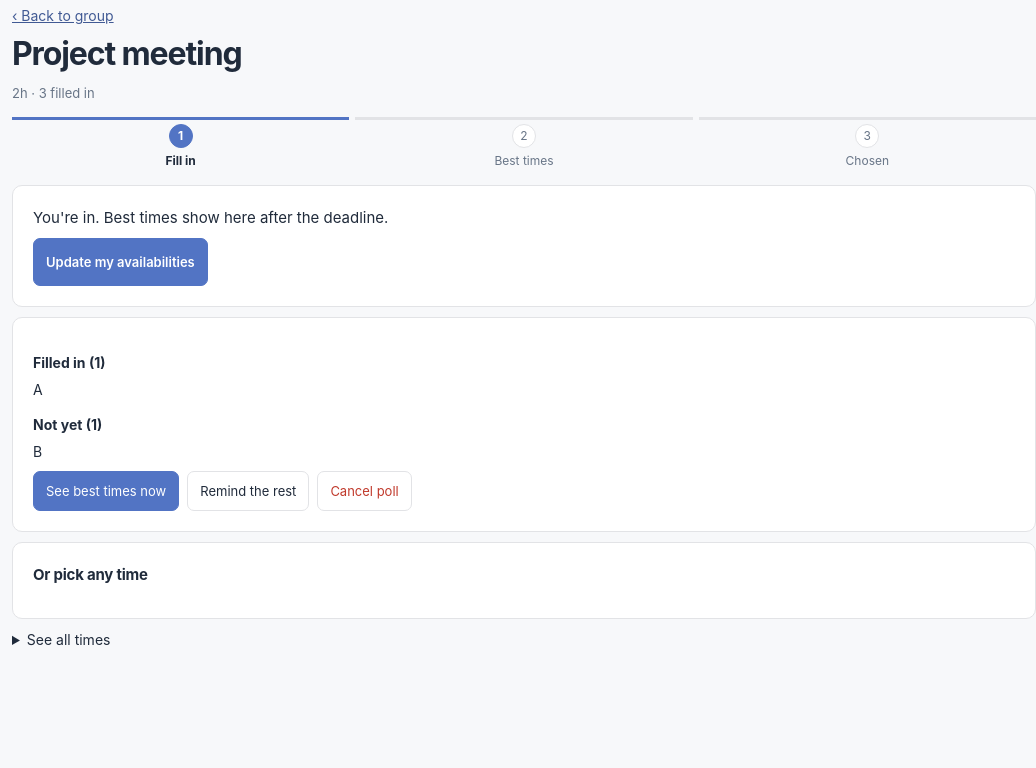
organiser buttons › shows the result next to the buttons, including a refusal
Click the button "See best times now". click: (106, 491)
box: x1=33 y1=471 x2=179 y2=511
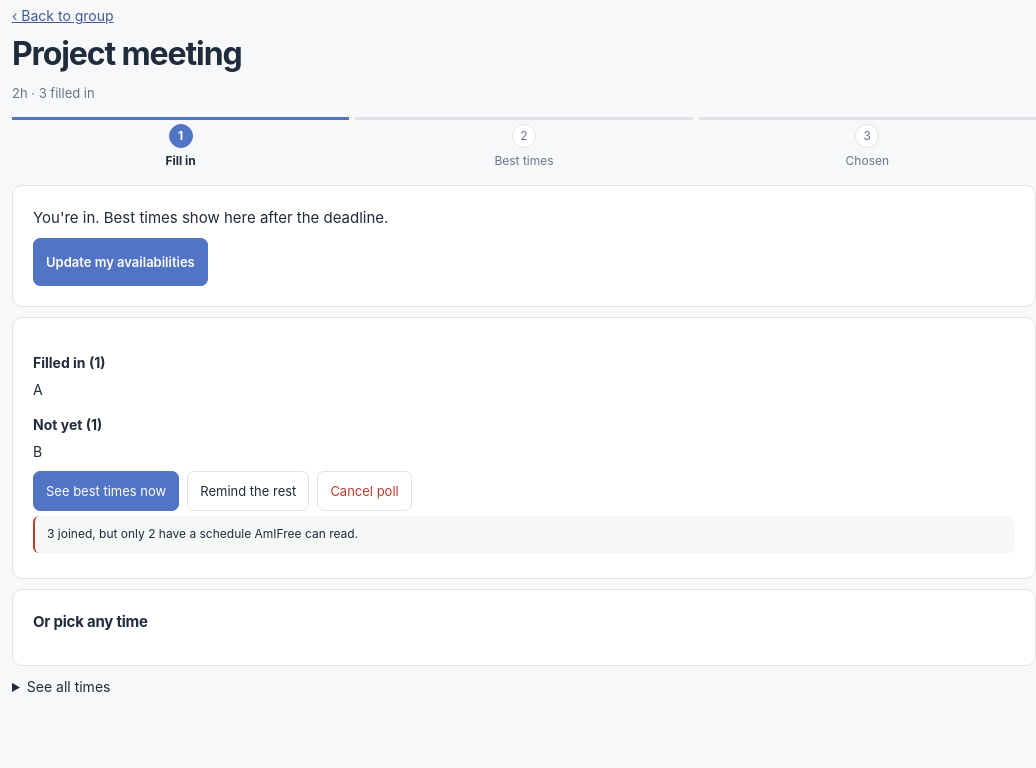
Expected: the message shows "only 2 have a schedule", x1=47 y1=526 x2=358 y2=541
Click the button "Remind the rest". click: (248, 491)
box: x1=187 y1=471 x2=309 y2=511
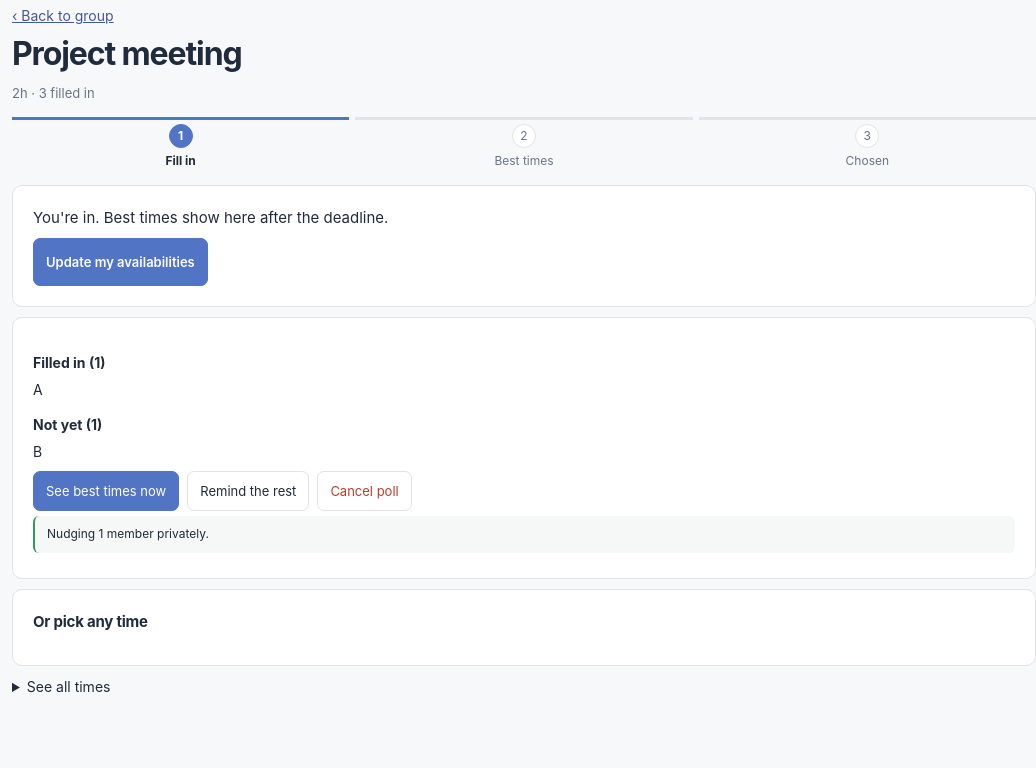
Expected: the text "Nudging 1 member privately." is shown, x1=33 y1=516 x2=1015 y2=553
